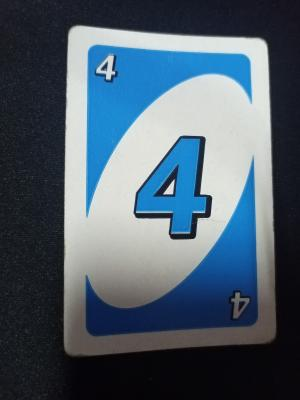blue: (83, 41, 263, 338)
num_4: (92, 48, 123, 87), (227, 287, 252, 323)
